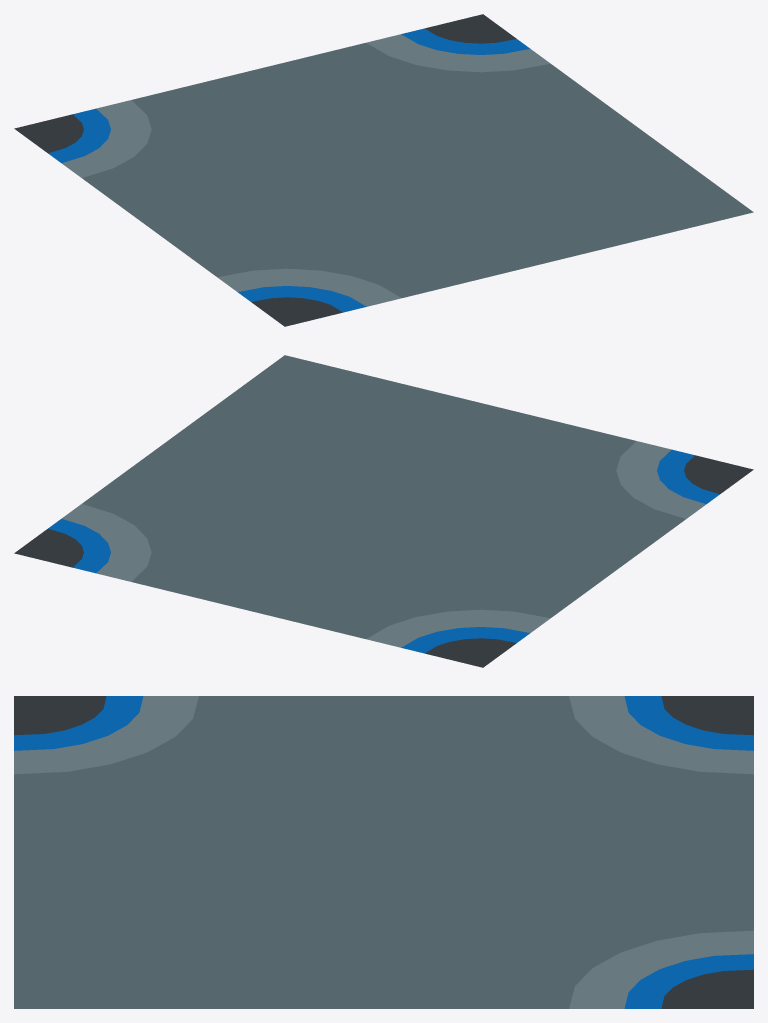
Rendered from Ceiling_type_C_017.fbx.
3 views of the same model, one above another, from view 1: azimuth 30°, elevation 25°; view 2: azimuth 150°, elevation 25°; view 3: azimuth 270°, elevation 25° (orthographic). The views are drawn at different scales.
Parts seen in each view (by area): view 1: Ceiling_type_C_017; view 2: Ceiling_type_C_017; view 3: Ceiling_type_C_017.
Part boxes in pixels (x1,y1,x2,y2): Ceiling_type_C_017: (14,14,753,326); Ceiling_type_C_017: (14,355,753,667); Ceiling_type_C_017: (14,696,753,1008).
Size of the model in its own units: 400 by 400 by 5.66.
